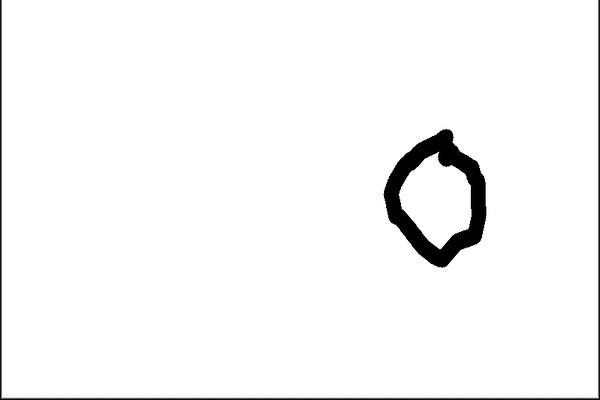O: (367, 122, 497, 276)
